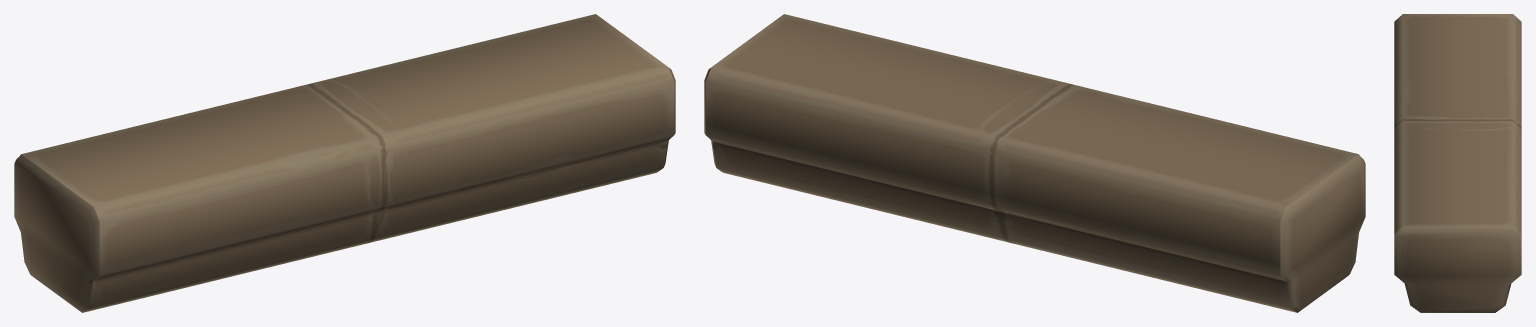
The model's file is SM_brick_building_05.glb.
3 views of the same model, side by side, from view 1: azimuth 30°, elevation 25°; view 2: azimuth 150°, elevation 25°; view 3: azimuth 270°, elevation 25° (orthographic). The views are drawn at different scales.
Parts seen in each view (by area): view 1: SM_brick_building_05; view 2: SM_brick_building_05; view 3: SM_brick_building_05.
Boxes of the visible parts, x1,y1,x2,y2 form: SM_brick_building_05: (14,14,675,312); SM_brick_building_05: (704,14,1365,312); SM_brick_building_05: (1394,14,1521,312).
Size of the model in its own units: 1.6 by 0.3 by 0.4.
1 material, 1 textured.
